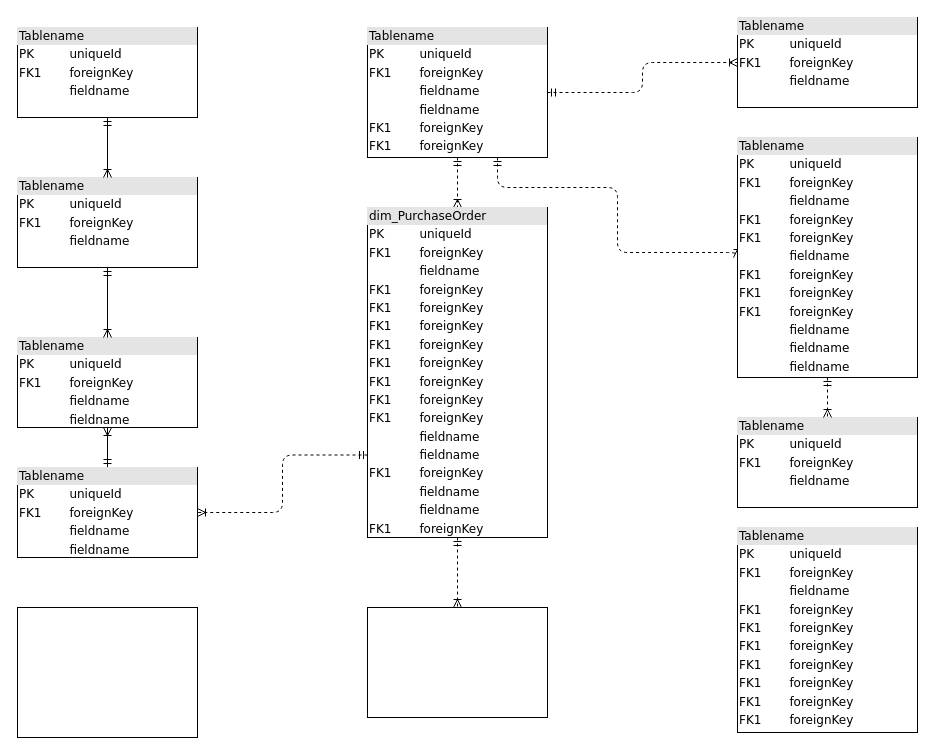
The diagram is 935 pixels wide and 755 high, and some of its shapes have lost their labels. The centre of each missing label's shape, as x and y in pixels:
"Tablename PK uniqueId FK1 foreignKey fieldname fieldname fieldname fieldname" belongs at (107,672).
"Tablename PK uniqueId FK1 foreignKey fieldname fieldname FK1 foreignKey" belongs at (457,662).
